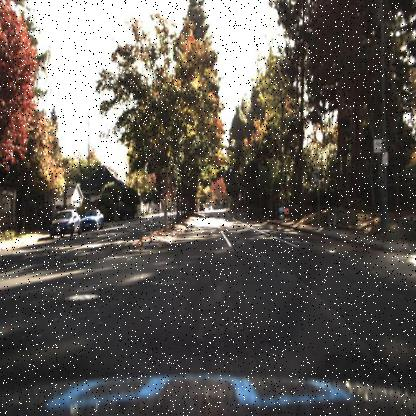car: (48, 208, 79, 241), (78, 206, 106, 234), (80, 208, 103, 236), (198, 198, 206, 214)
